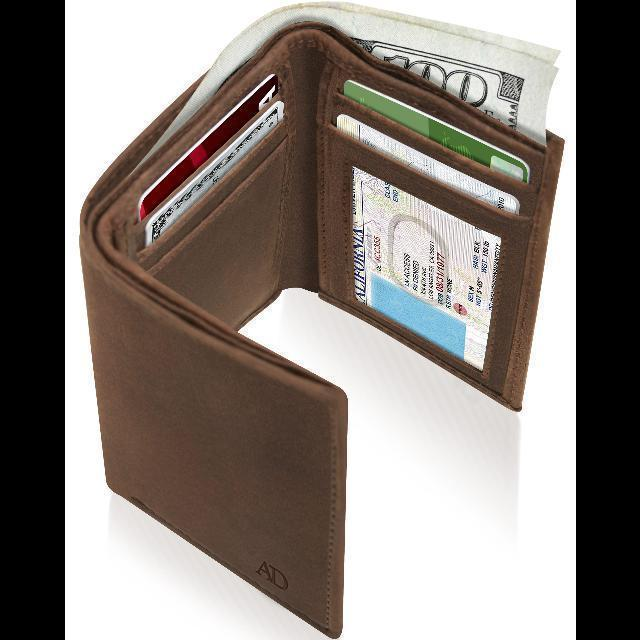wallet: (75, 0, 570, 640)
